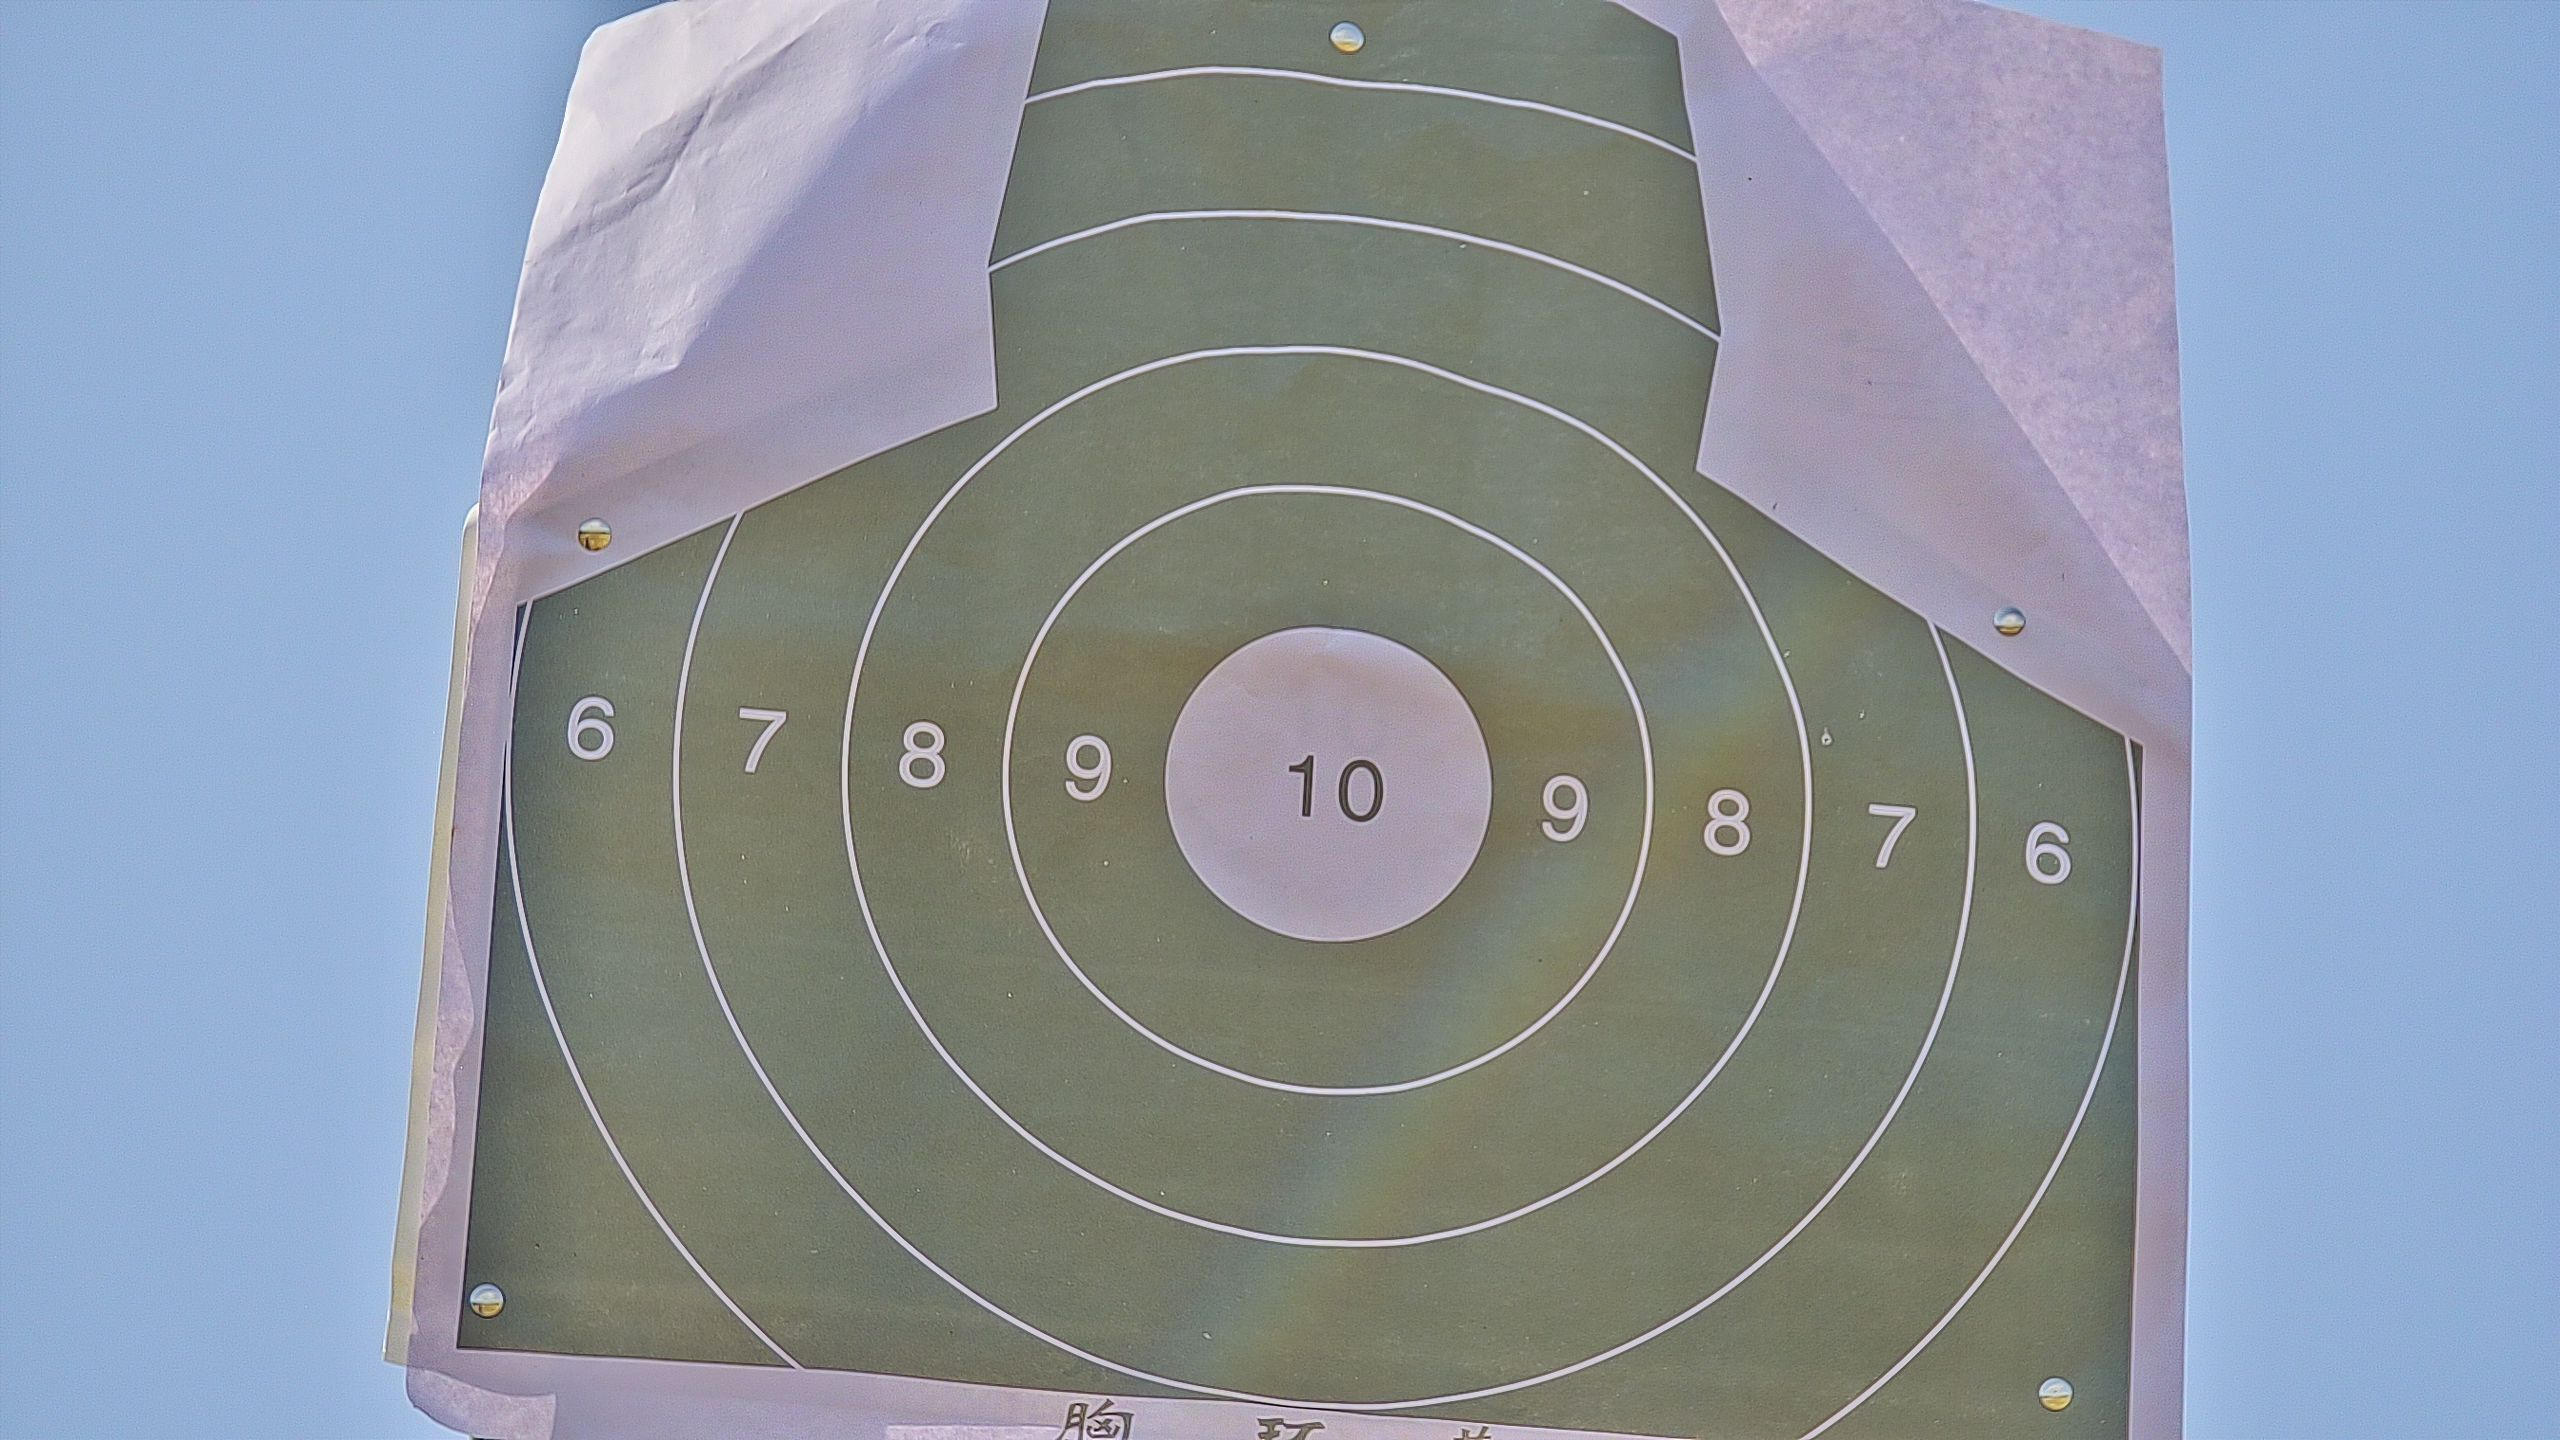kernel: (1326, 788, 1327, 795)
target: (447, 5, 2149, 1440)
ten: (1160, 626, 1495, 944)
